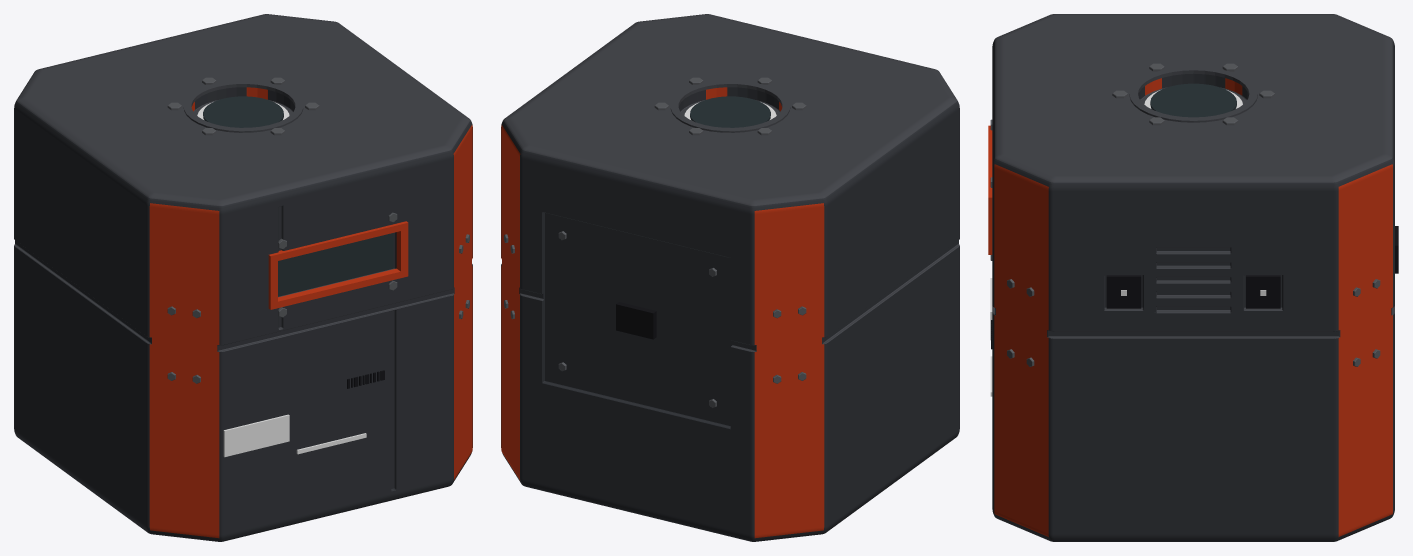
File: SM_Prop_CubeC.fbx
3 renders of one model, left to right at view 1: azimuth 30°, elevation 25°; view 2: azimuth 150°, elevation 25°; view 3: azimuth 270°, elevation 25°, orthographic. The views are drawn at different scales.
Parts seen in each view (by area): view 1: SM_EnergyCube; view 2: SM_EnergyCube; view 3: SM_EnergyCube.
Boxes of the visible parts, box(x1,y1,x2,y2) form: SM_EnergyCube: box(14, 14, 472, 541); SM_EnergyCube: box(501, 14, 959, 541); SM_EnergyCube: box(988, 14, 1398, 541).
Bounding box in the file's own units: 52.1 × 52.35 × 53.05.
